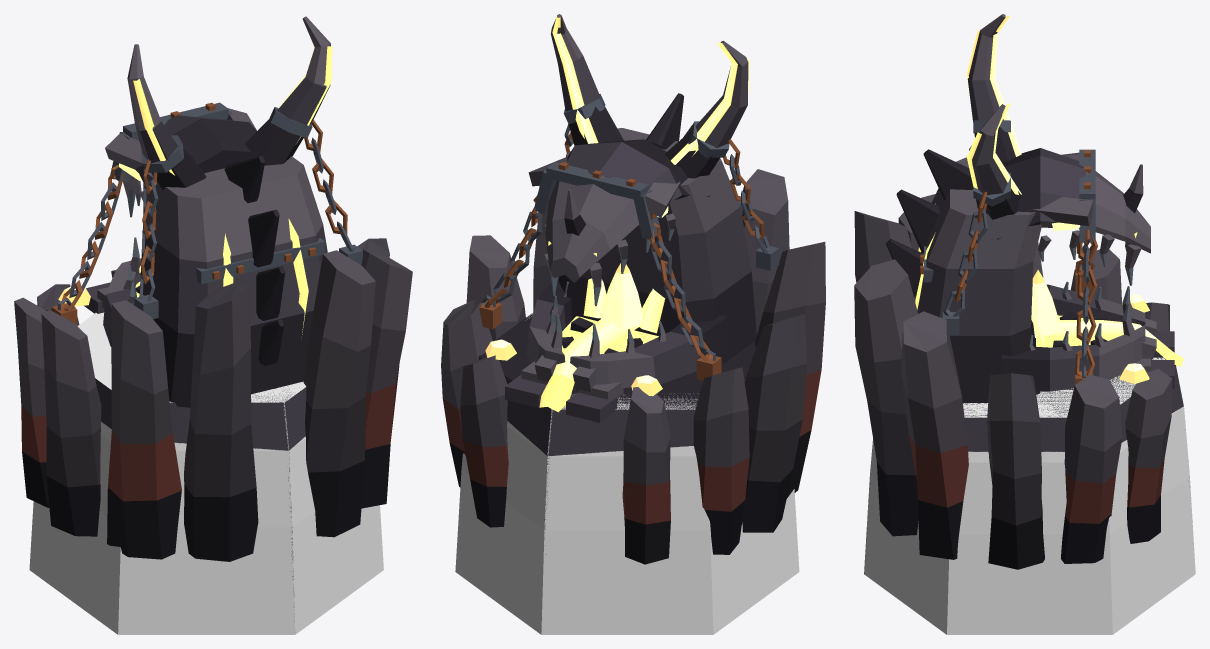
The model's file is volcanic_obsidian_dragon_maw.glb.
3 renders of one model, left to right at view 1: azimuth 30°, elevation 25°; view 2: azimuth 150°, elevation 25°; view 3: azimuth 270°, elevation 25°, orthographic. The views are drawn at different scales.
Parts seen in each view (by area): view 1: VolcanicObsidianDragonMaw, col_dragonmaw_base; view 2: VolcanicObsidianDragonMaw, col_dragonmaw_base; view 3: VolcanicObsidianDragonMaw, col_dragonmaw_base.
Part boxes in pixels (left/top/right/bottom): VolcanicObsidianDragonMaw: left=14, top=16, right=412, bottom=604; col_dragonmaw_base: left=29, top=312, right=383, bottom=634; VolcanicObsidianDragonMaw: left=441, top=14, right=825, bottom=564; col_dragonmaw_base: left=455, top=313, right=799, bottom=634; VolcanicObsidianDragonMaw: left=854, top=14, right=1192, bottom=573; col_dragonmaw_base: left=864, top=357, right=1195, bottom=634.
Bounding box in the file's own units: 6.24 × 9.78 × 5.81.
